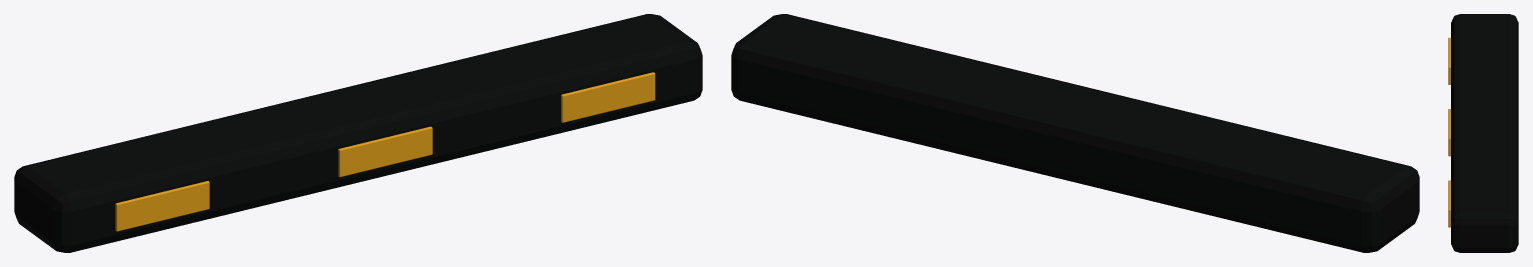
Rendered from OAA_Parking_WheelStop.fbx.
The picture shows the model from 3 angles, left to right: view 1: azimuth 30°, elevation 25°; view 2: azimuth 150°, elevation 25°; view 3: azimuth 270°, elevation 25°; orthographic projection. The views are drawn at different scales.
Visible parts, largest first — view 1: Body; view 2: Body; view 3: Body.
Part boxes in pixels (box(x1,y1,x2,y2)): Body: box(14, 14, 702, 252); Body: box(731, 14, 1419, 252); Body: box(1448, 14, 1518, 252).
Bounding box in the file's own units: 1.6 × 0.14 × 0.229.
